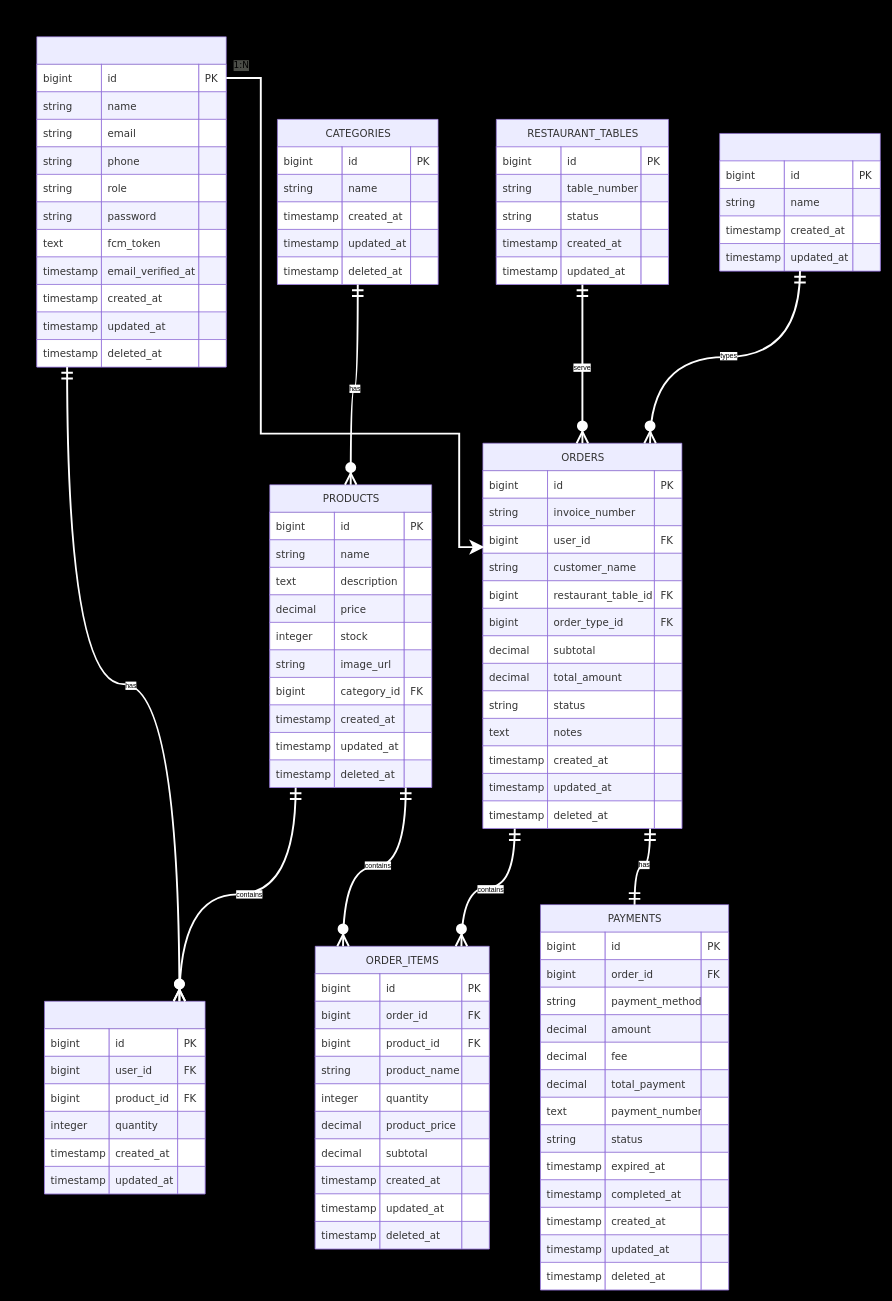
Some shapes in this 892 by 1301 pixel diagram are drawn without their labels. Each missing label, with the box of its shape:
CART_ITEMS: (44, 1001, 205, 1194)
ORDER_TYPES: (719, 133, 880, 271)
USERS: (36, 36, 226, 367)
